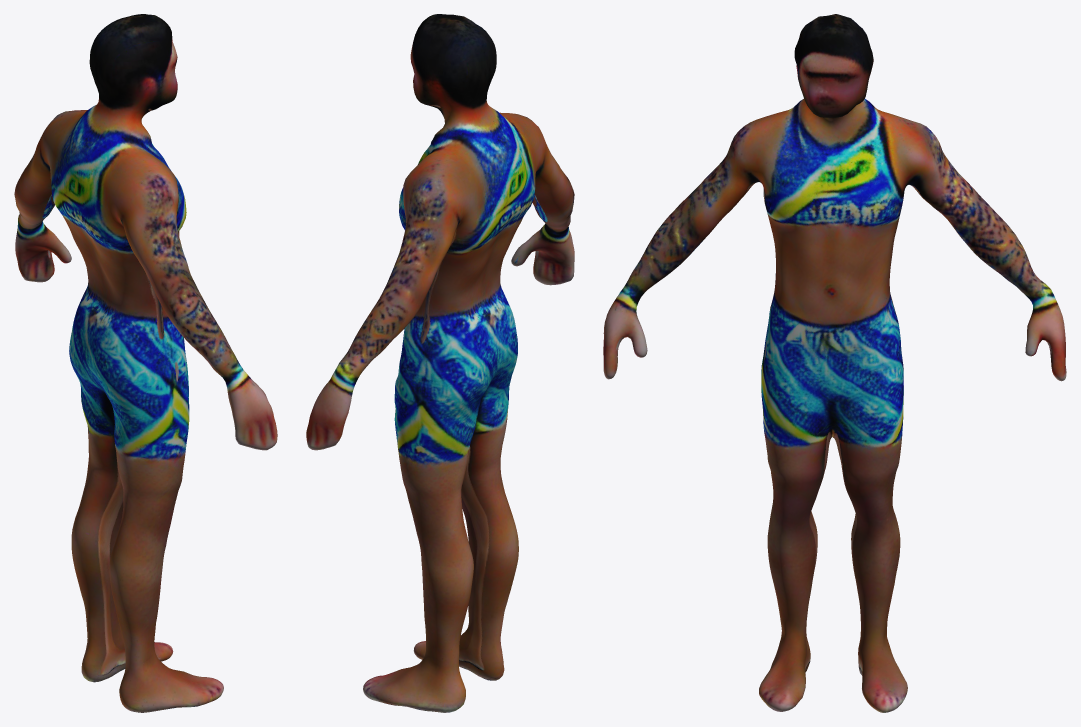
File: 3b7f2622cf72_NPC_Wearing_Surf_Sw.obj
3 views of the same model, side by side, from view 1: azimuth 30°, elevation 25°; view 2: azimuth 150°, elevation 25°; view 3: azimuth 270°, elevation 25° (orthographic).
Parts seen in each view (by area): view 1: mesh; view 2: mesh; view 3: mesh.
Part boxes in pixels (x1=…): mesh: x1=14, y1=14, x2=277, y2=712; mesh: x1=306, y1=14, x2=574, y2=712; mesh: x1=603, y1=14, x2=1066, y2=712.
Bounding box in the file's own units: 0.1936 × 0.9993 × 0.6273.
Materials: 1 (1 with a texture image).
